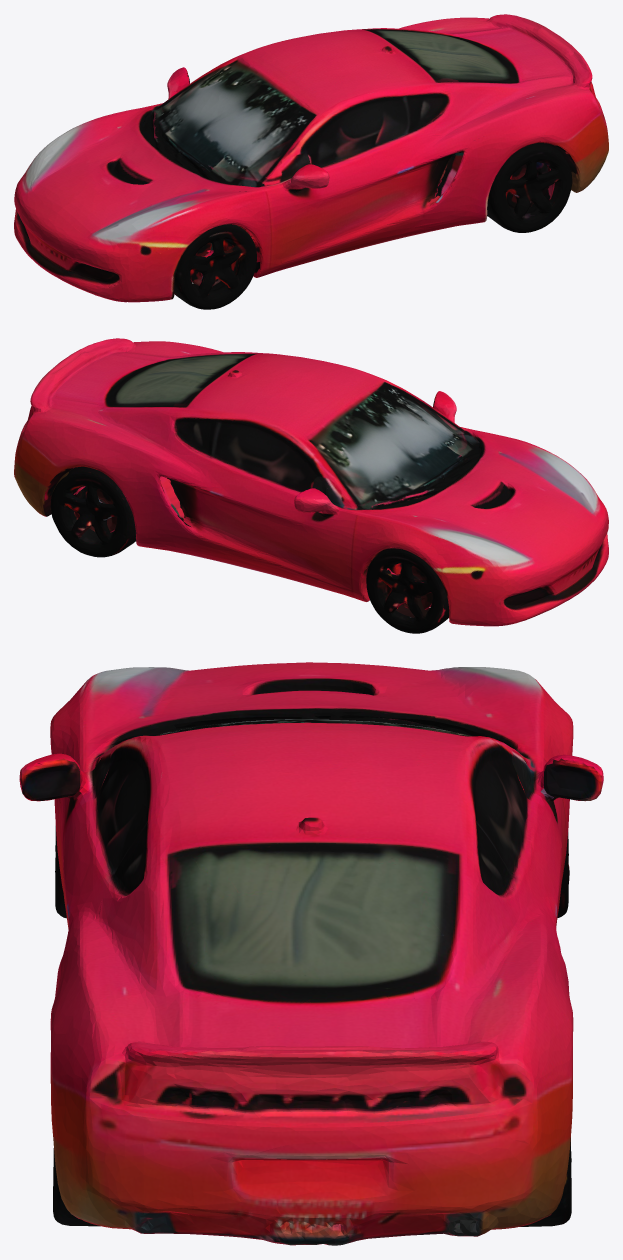
The picture shows the model from 3 angles, top to bottom: view 1: azimuth 30°, elevation 25°; view 2: azimuth 150°, elevation 25°; view 3: azimuth 270°, elevation 25°; orthographic projection. The views are drawn at different scales.
Parts seen in each view (by area): view 1: textured_mesh; view 2: textured_mesh; view 3: textured_mesh.
Boxes of the visible parts, x1=… form: textured_mesh: x1=14, y1=14, x2=608, y2=309; textured_mesh: x1=14, y1=338, x2=608, y2=633; textured_mesh: x1=19, y1=662, x2=603, y2=1245.
Bounding box in the file's own units: 1.99 × 0.5777 × 0.9514.
1 material, 1 textured.
